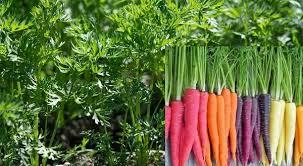Organic: (0, 1, 303, 166)
